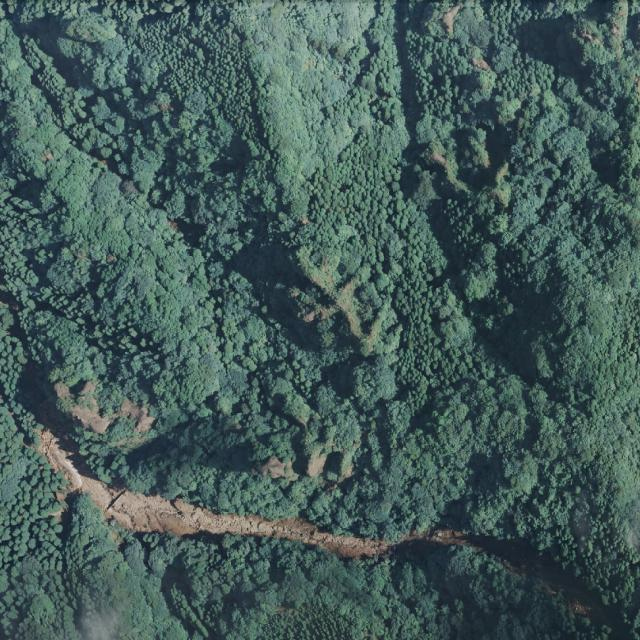landslide: (40, 430, 396, 559), (79, 476, 394, 559)
